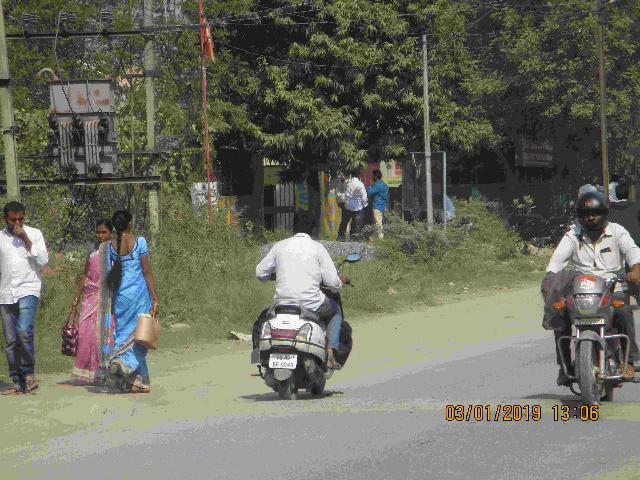helm: (577, 189, 613, 232)
motor: (251, 251, 365, 405), (541, 269, 640, 413)
non-helm: (292, 207, 319, 237)
